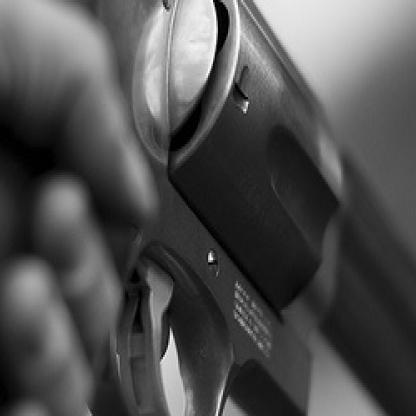gun: (0, 0, 227, 228)
